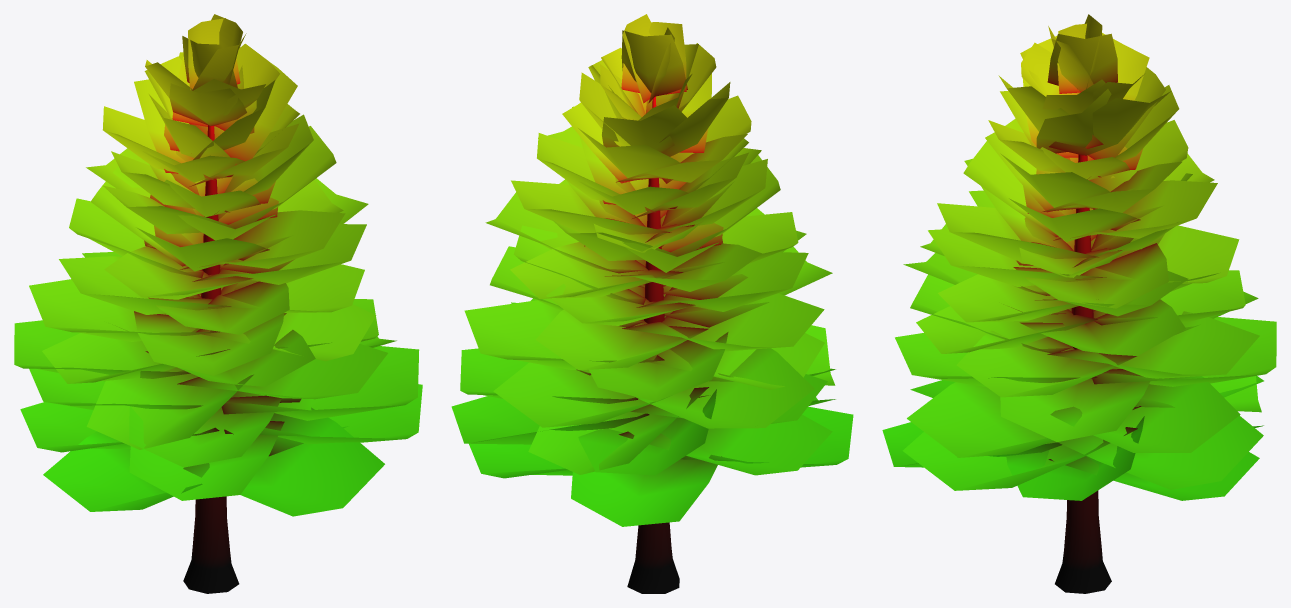
File: Tree01.glb
3 renders of one model, left to right at view 1: azimuth 30°, elevation 25°; view 2: azimuth 150°, elevation 25°; view 3: azimuth 270°, elevation 25°, orthographic.
Parts seen in each view (by area): view 1: Tree01_LOD0; view 2: Tree01_LOD0; view 3: Tree01_LOD0.
Part boxes in pixels (x1,y1,x2,y2): Tree01_LOD0: (14, 14, 422, 593); Tree01_LOD0: (451, 14, 853, 593); Tree01_LOD0: (882, 14, 1276, 593).
Size of the model in its own units: 5.12 by 7.72 by 4.93.
